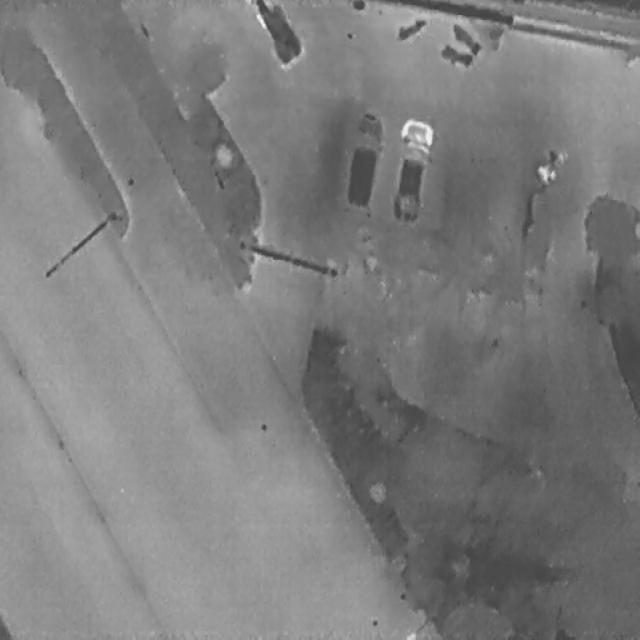Bicycle: (446, 13, 484, 62), (393, 10, 428, 42), (438, 40, 474, 70), (545, 148, 569, 166)
Car: (382, 110, 436, 228), (339, 102, 388, 212), (244, 0, 304, 70)
Person: (532, 159, 558, 185)
